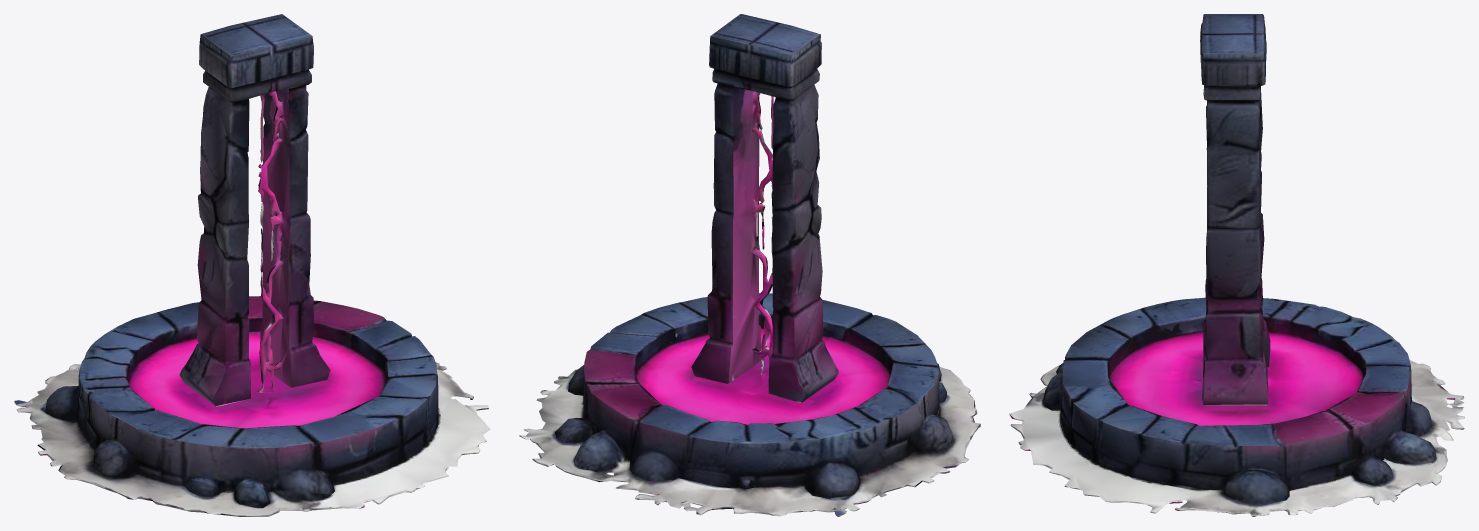
The model's file is yggdrasil-shrine-mimir-right.collider.glb.
The picture shows the model from 3 angles, left to right: view 1: azimuth 30°, elevation 25°; view 2: azimuth 150°, elevation 25°; view 3: azimuth 270°, elevation 25°; orthographic projection.
Visible parts, largest first — view 1: temp_mesh.ply; view 2: temp_mesh.ply; view 3: temp_mesh.ply.
Part boxes in pixels (left/top/right/bottom): temp_mesh.ply: left=14, top=14, right=490, bottom=516; temp_mesh.ply: left=519, top=14, right=980, bottom=516; temp_mesh.ply: left=1009, top=14, right=1464, bottom=516.
Size of the model in its own units: 1.97 by 1.85 by 1.97.
Materials: 1 (1 with a texture image).
